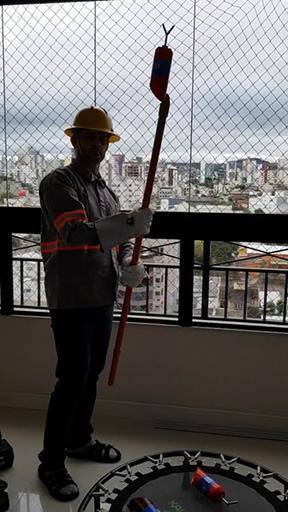Detector_Tensao_Contato: (148, 23, 176, 103), (190, 468, 237, 512)
Vara_Manobra: (108, 100, 171, 387)
